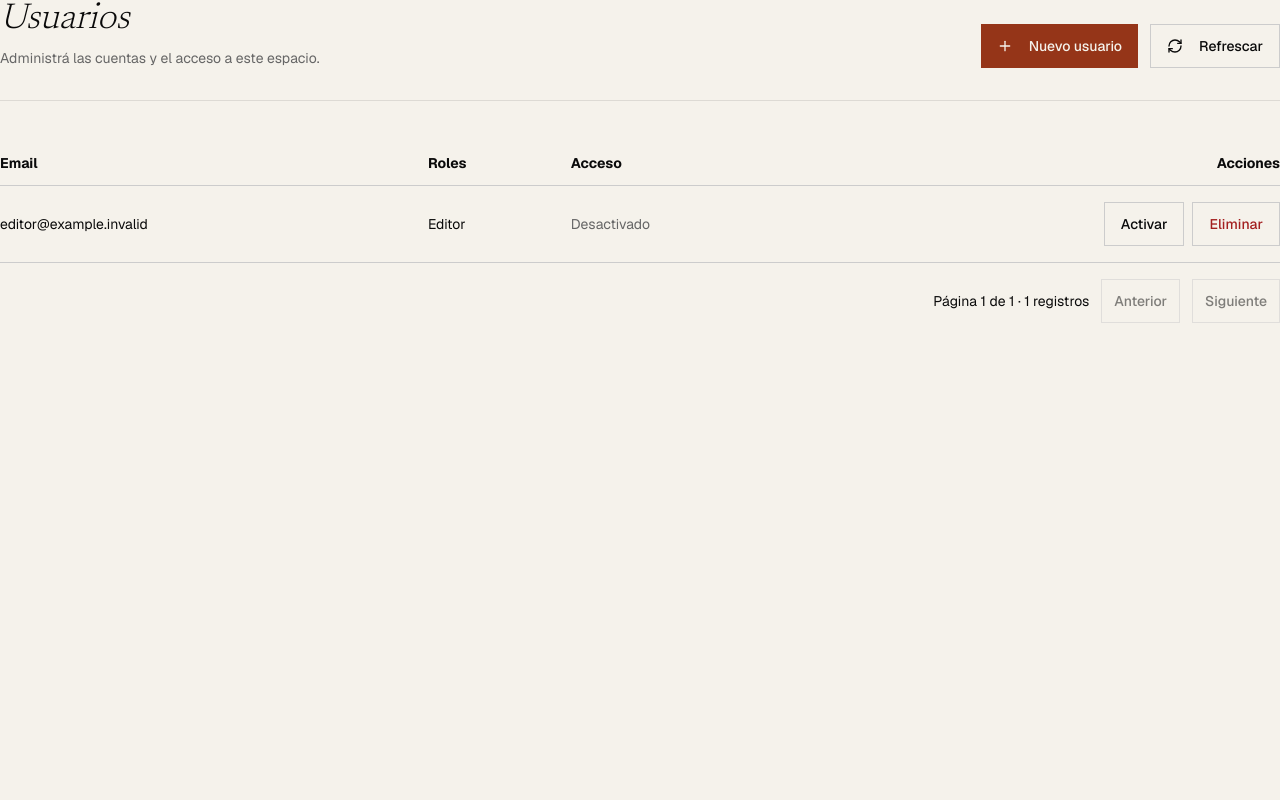
Test: permite cancelar y confirmar la activación de una cuenta desactivada
Click the button with aria-label "Activar usuario editor@example.invalid".
click(1144, 224)  # box [1104,202,1184,246]
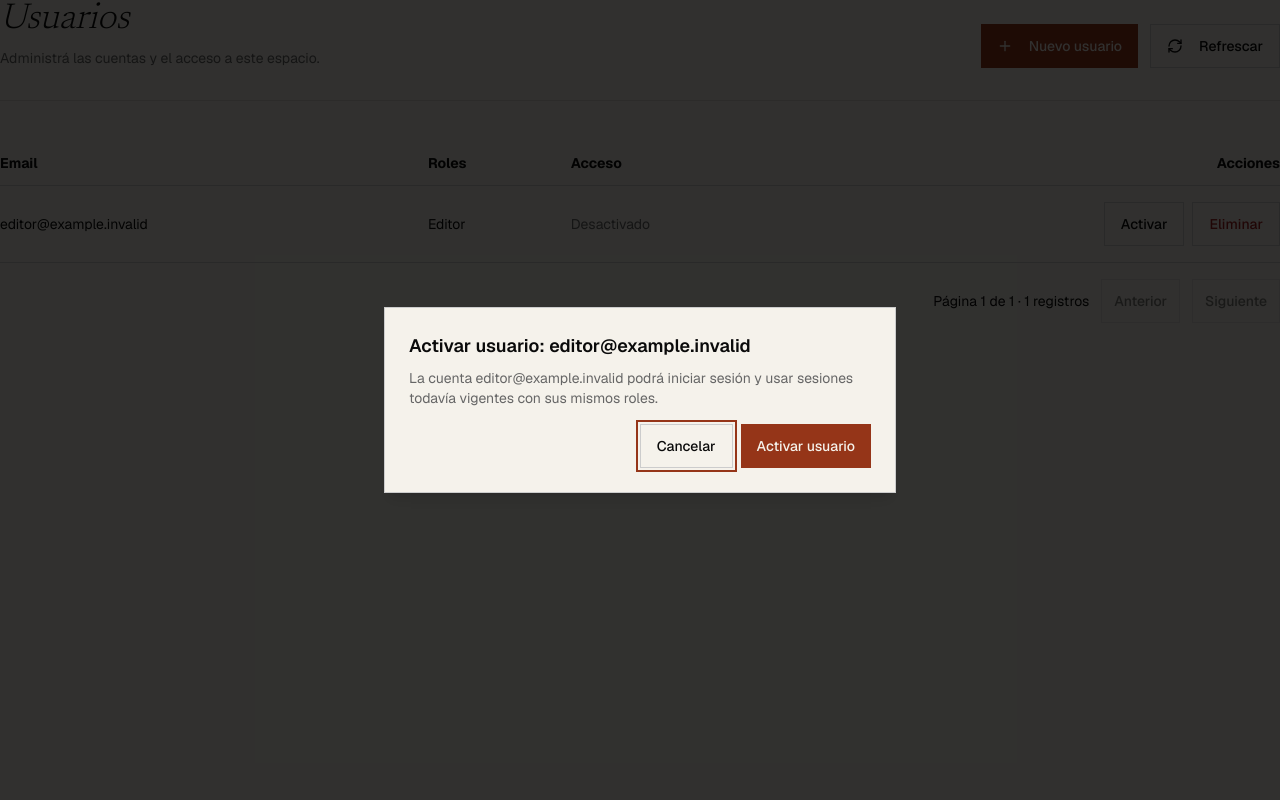
Click the button "Cancelar".
click(686, 446)  # box [640,424,732,468]
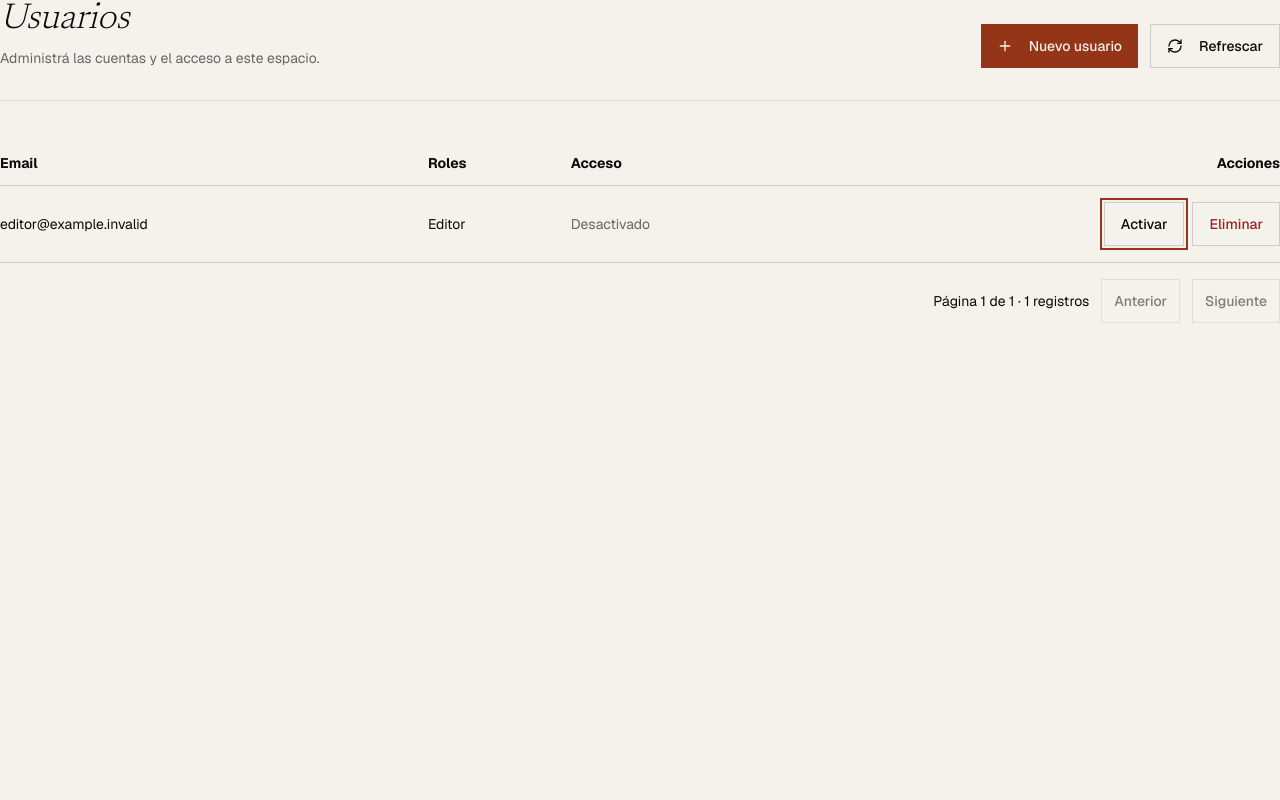
Click the button with aria-label "Activar usuario editor@example.invalid".
click(1144, 224)  # box [1104,202,1184,246]
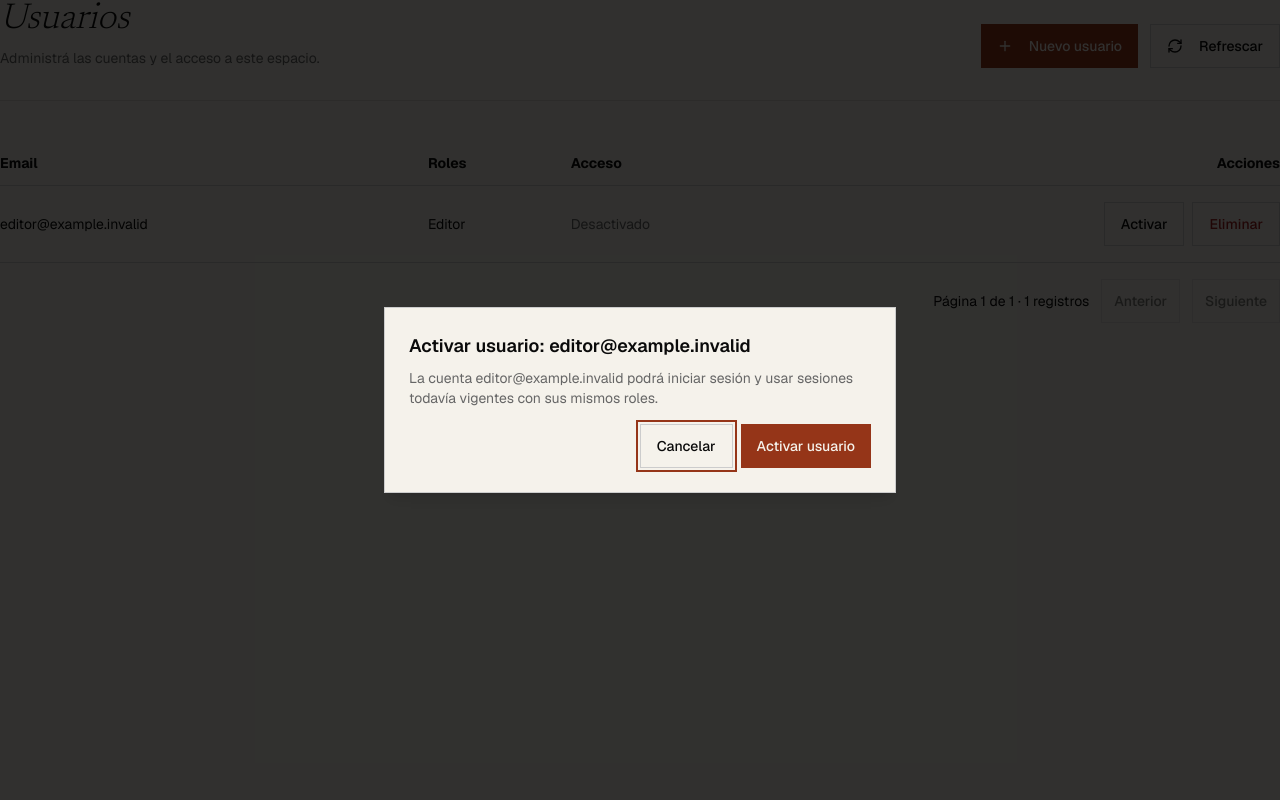
Click the button "Activar usuario".
click(806, 446)  # box [741,424,871,468]
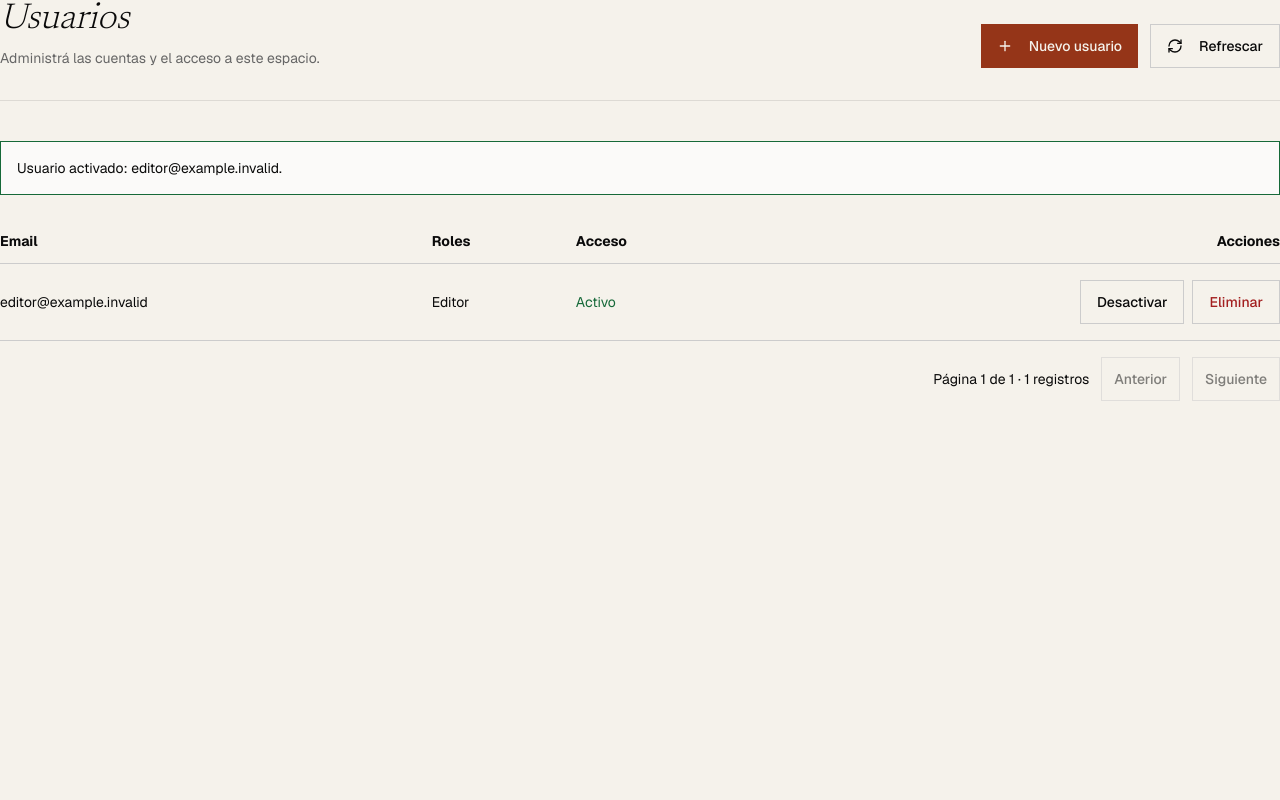
Check: the button with aria-label "Desactivar usuario editor@example.invalid" is shown, box [1080,280,1184,324]
